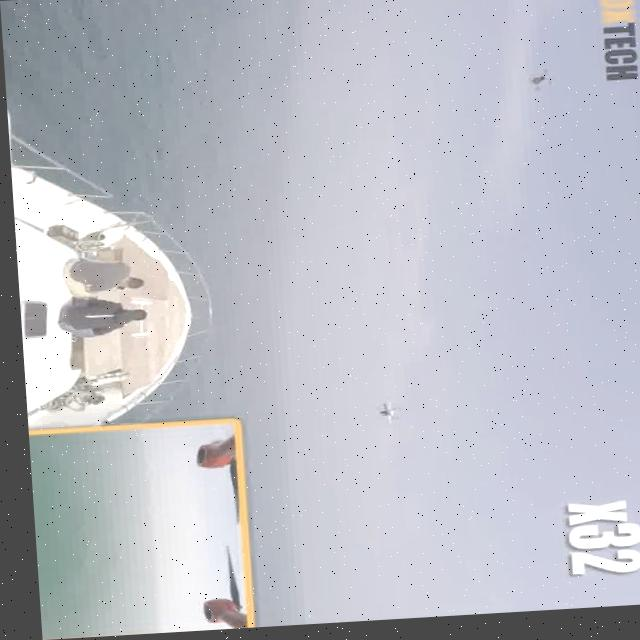drone: (366, 400, 405, 430), (521, 70, 556, 98)
